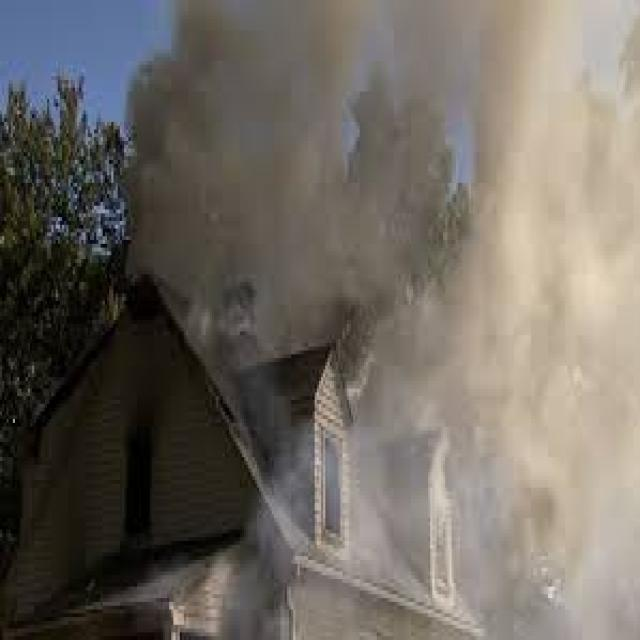smoke: (443, 84, 638, 640), (200, 49, 422, 326)
